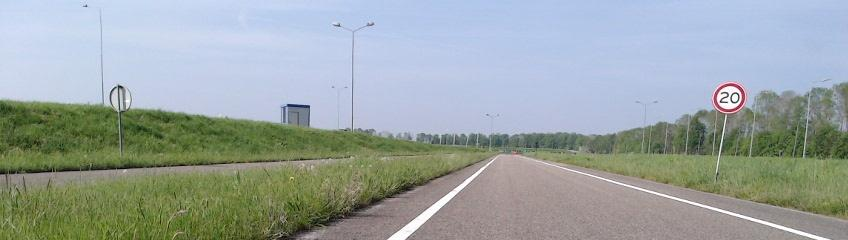Speed-limit-20km-h-: (714, 84, 745, 112)
